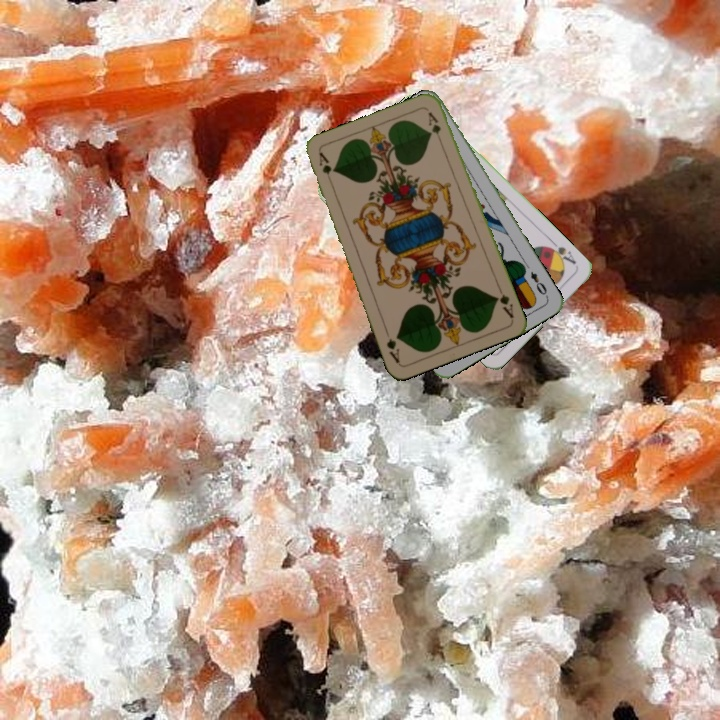EO: (526, 267, 551, 300)
GA: (491, 282, 517, 321), (315, 149, 335, 188)
SA: (543, 237, 579, 267)
